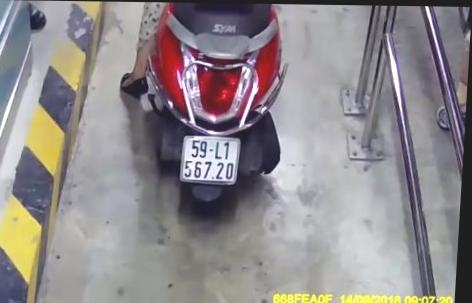License_Plate: (173, 133, 247, 188)
